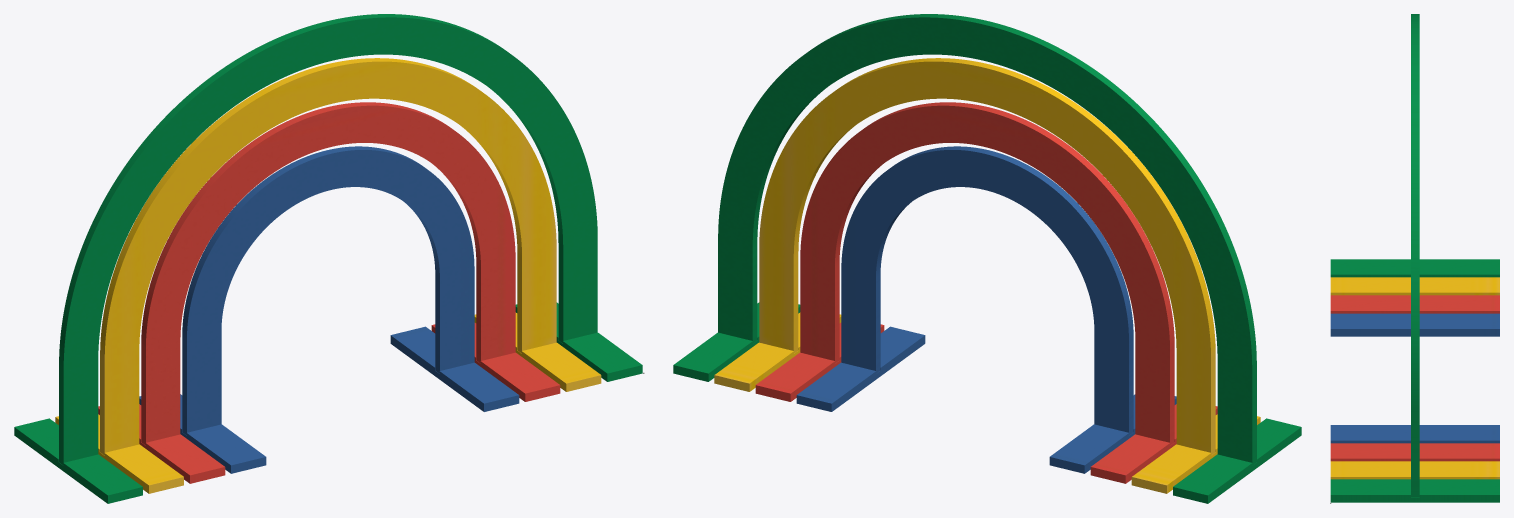
The model's file is dugi_dlja_podlezanija.glb.
3 views of the same model, side by side, from view 1: azimuth 30°, elevation 25°; view 2: azimuth 150°, elevation 25°; view 3: azimuth 270°, elevation 25° (orthographic). The views are drawn at different scales.
Visible parts, largest first — view 1: Shape_IndexedFaceSet.011_FAN, Shape_IndexedFaceSet.006_FAN, Shape_IndexedFaceSet.003_FAN, Shape_IndexedFaceSet_FAN, Shape_IndexedFaceSet.002_FAN, Shape_IndexedFaceSet.010_FAN, Shape_IndexedFaceSet.004_FAN, Shape_IndexedFaceSet.001_FAN, Shape_IndexedFaceSet.007_FAN, Shape_IndexedFaceSet.009_FAN, Shape_IndexedFaceSet.005_FAN, Shape_IndexedFaceSet.008_FAN; view 2: Shape_IndexedFaceSet.011_FAN, Shape_IndexedFaceSet.006_FAN, Shape_IndexedFaceSet.003_FAN, Shape_IndexedFaceSet_FAN, Shape_IndexedFaceSet.002_FAN, Shape_IndexedFaceSet.010_FAN, Shape_IndexedFaceSet.004_FAN, Shape_IndexedFaceSet.008_FAN, Shape_IndexedFaceSet.001_FAN, Shape_IndexedFaceSet.005_FAN, Shape_IndexedFaceSet.009_FAN, Shape_IndexedFaceSet.007_FAN; view 3: Shape_IndexedFaceSet.011_FAN, Shape_IndexedFaceSet.009_FAN, Shape_IndexedFaceSet.001_FAN, Shape_IndexedFaceSet.005_FAN, Shape_IndexedFaceSet.002_FAN, Shape_IndexedFaceSet.004_FAN, Shape_IndexedFaceSet.007_FAN, Shape_IndexedFaceSet.008_FAN, Shape_IndexedFaceSet.010_FAN.
Part boxes in pixels (x1,y1,x2,y2): Shape_IndexedFaceSet.011_FAN: (59,14,597,464); Shape_IndexedFaceSet.006_FAN: (100,58,556,455); Shape_IndexedFaceSet.003_FAN: (141,102,515,444); Shape_IndexedFaceSet_FAN: (182,146,474,434); Shape_IndexedFaceSet.002_FAN: (390,326,519,411); Shape_IndexedFaceSet.010_FAN: (14,418,142,503); Shape_IndexedFaceSet.004_FAN: (431,323,560,401); Shape_IndexedFaceSet.001_FAN: (139,394,266,473); Shape_IndexedFaceSet.007_FAN: (474,312,601,391); Shape_IndexedFaceSet.009_FAN: (515,302,642,381); Shape_IndexedFaceSet.005_FAN: (98,404,225,483); Shape_IndexedFaceSet.008_FAN: (55,414,183,493); Shape_IndexedFaceSet.011_FAN: (718,14,1256,465); Shape_IndexedFaceSet.006_FAN: (759,58,1215,455); Shape_IndexedFaceSet.003_FAN: (800,102,1174,444); Shape_IndexedFaceSet_FAN: (841,146,1133,434); Shape_IndexedFaceSet.002_FAN: (796,326,925,411); Shape_IndexedFaceSet.010_FAN: (1173,418,1301,503); Shape_IndexedFaceSet.004_FAN: (755,322,884,401); Shape_IndexedFaceSet.008_FAN: (1131,414,1260,493); Shape_IndexedFaceSet.001_FAN: (1049,394,1176,473); Shape_IndexedFaceSet.005_FAN: (1090,404,1217,483); Shape_IndexedFaceSet.009_FAN: (673,302,800,381); Shape_IndexedFaceSet.007_FAN: (714,312,841,391); Shape_IndexedFaceSet.011_FAN: (1411,14,1419,497); Shape_IndexedFaceSet.009_FAN: (1330,479,1499,502); Shape_IndexedFaceSet.001_FAN: (1330,313,1499,336); Shape_IndexedFaceSet.005_FAN: (1330,295,1499,313); Shape_IndexedFaceSet.002_FAN: (1330,425,1499,443); Shape_IndexedFaceSet.004_FAN: (1330,443,1499,461); Shape_IndexedFaceSet.007_FAN: (1330,461,1499,479); Shape_IndexedFaceSet.008_FAN: (1330,277,1499,295); Shape_IndexedFaceSet.010_FAN: (1330,259,1499,277).
Bounding box in the file's own units: 992 × 675 × 301.
13 materials, 12 textured.
